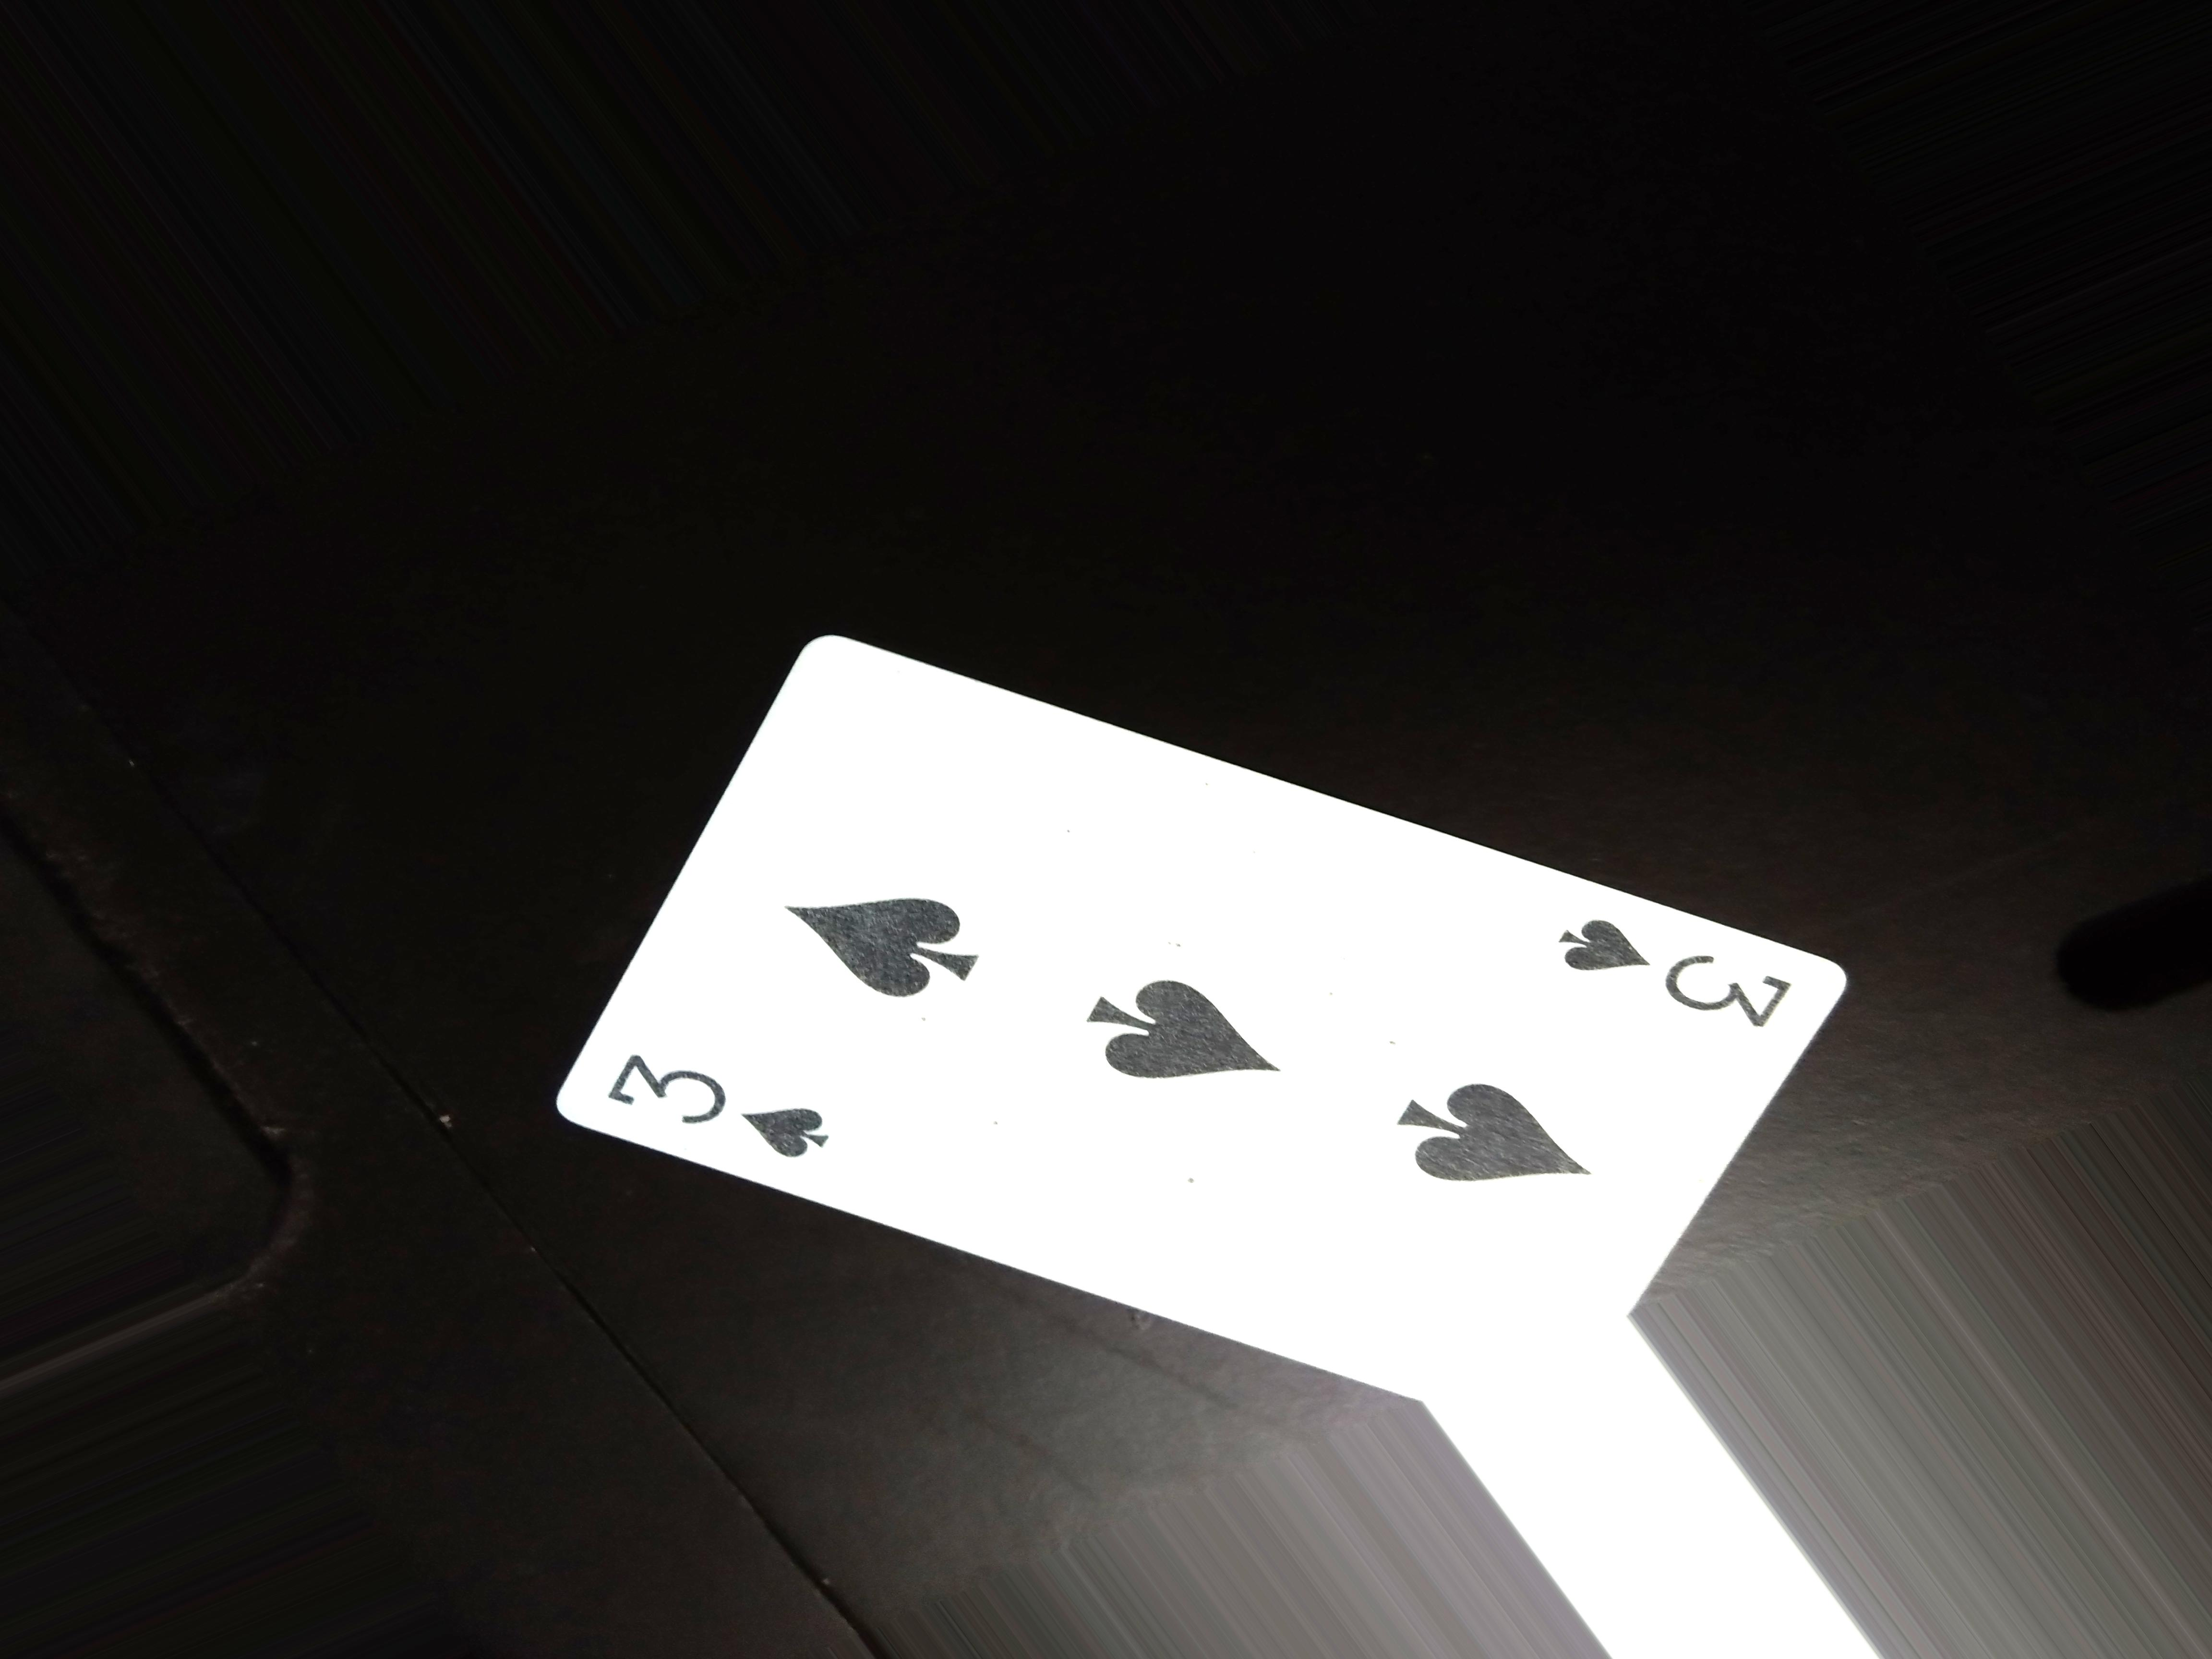3S: (1548, 925, 1815, 1039)
